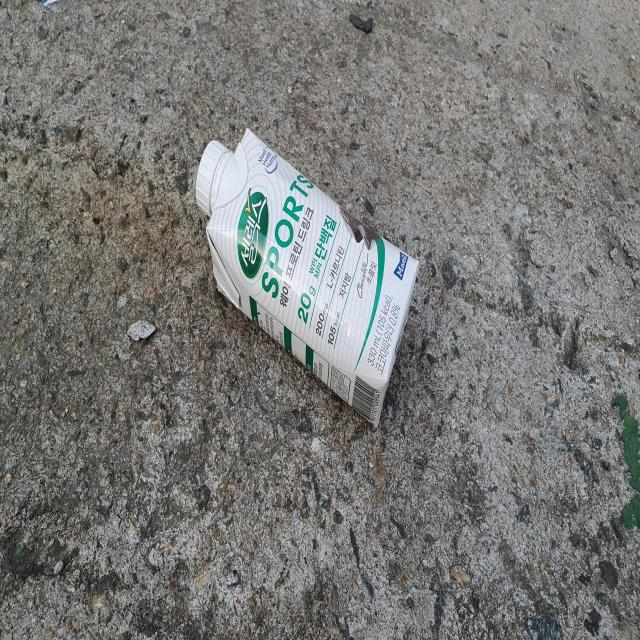paperpack: (195, 128, 419, 426)
